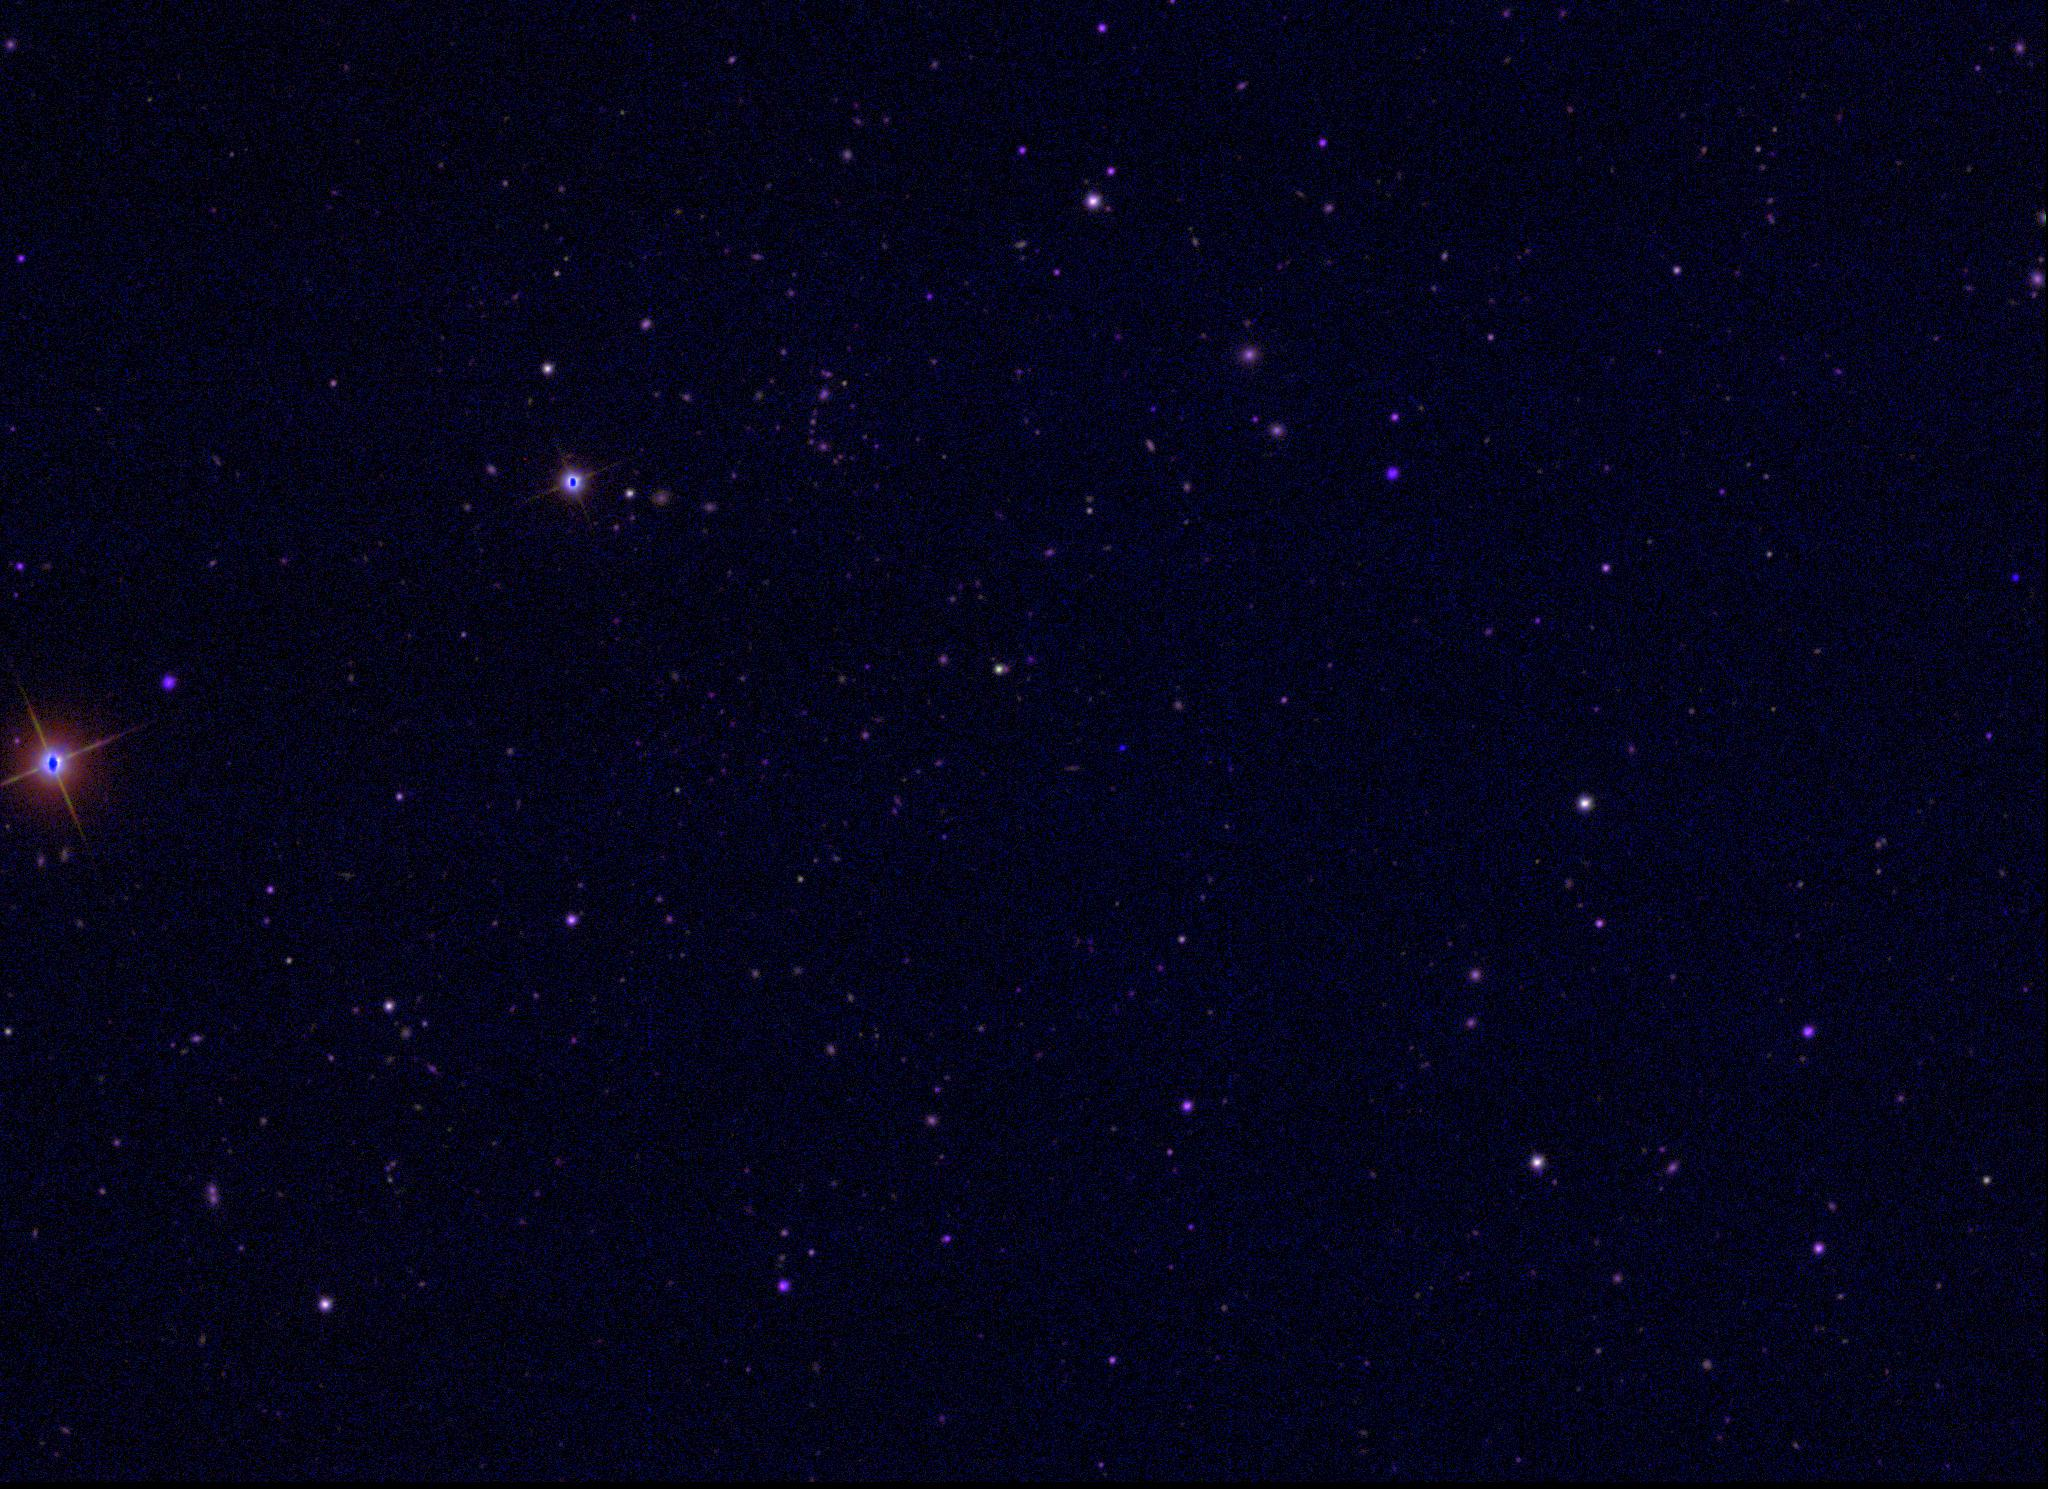L: (1115, 740, 1129, 754)
